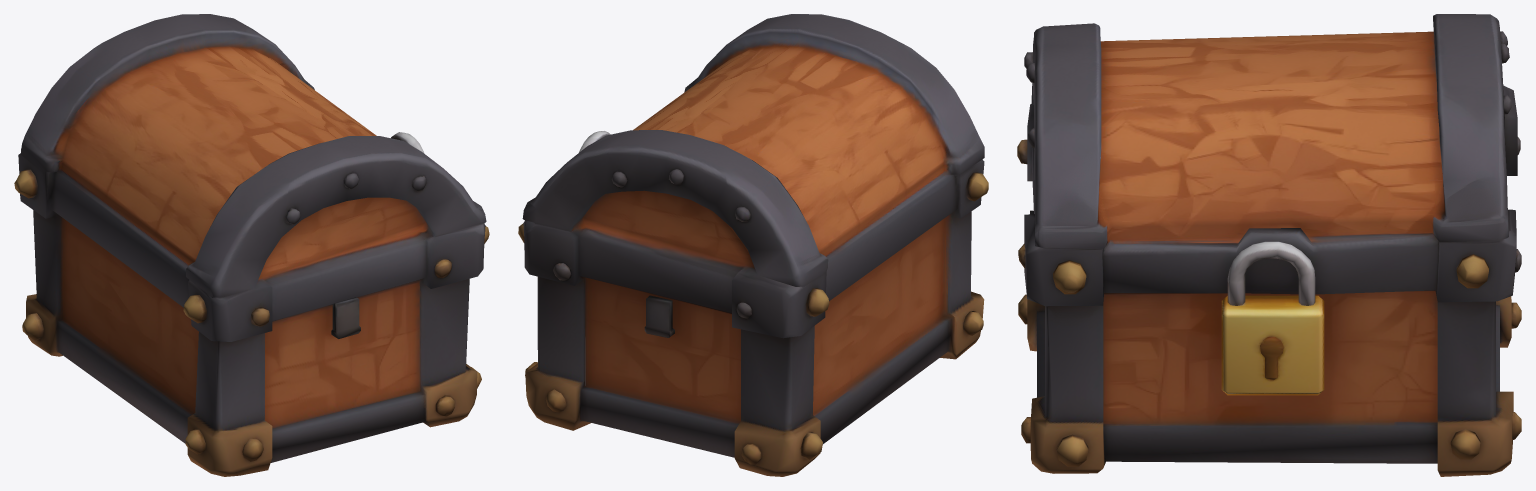
The model's file is treasure-chest.glb.
The picture shows the model from 3 angles, left to right: view 1: azimuth 30°, elevation 25°; view 2: azimuth 150°, elevation 25°; view 3: azimuth 270°, elevation 25°; orthographic projection. The views are drawn at different scales.
Visible parts, largest first — view 1: tripo_node_3dcd3df2-e12e-40f8-bb3a-a0df47bddc02; view 2: tripo_node_3dcd3df2-e12e-40f8-bb3a-a0df47bddc02; view 3: tripo_node_3dcd3df2-e12e-40f8-bb3a-a0df47bddc02.
Part boxes in pixels (x1=…): tripo_node_3dcd3df2-e12e-40f8-bb3a-a0df47bddc02: x1=14, y1=14, x2=489, y2=476; tripo_node_3dcd3df2-e12e-40f8-bb3a-a0df47bddc02: x1=518, y1=14, x2=988, y2=476; tripo_node_3dcd3df2-e12e-40f8-bb3a-a0df47bddc02: x1=1017, y1=14, x2=1521, y2=476.
Bounding box in the file's own units: 0.9199 × 0.8027 × 0.998.
Materials: 1 (1 with a texture image).
